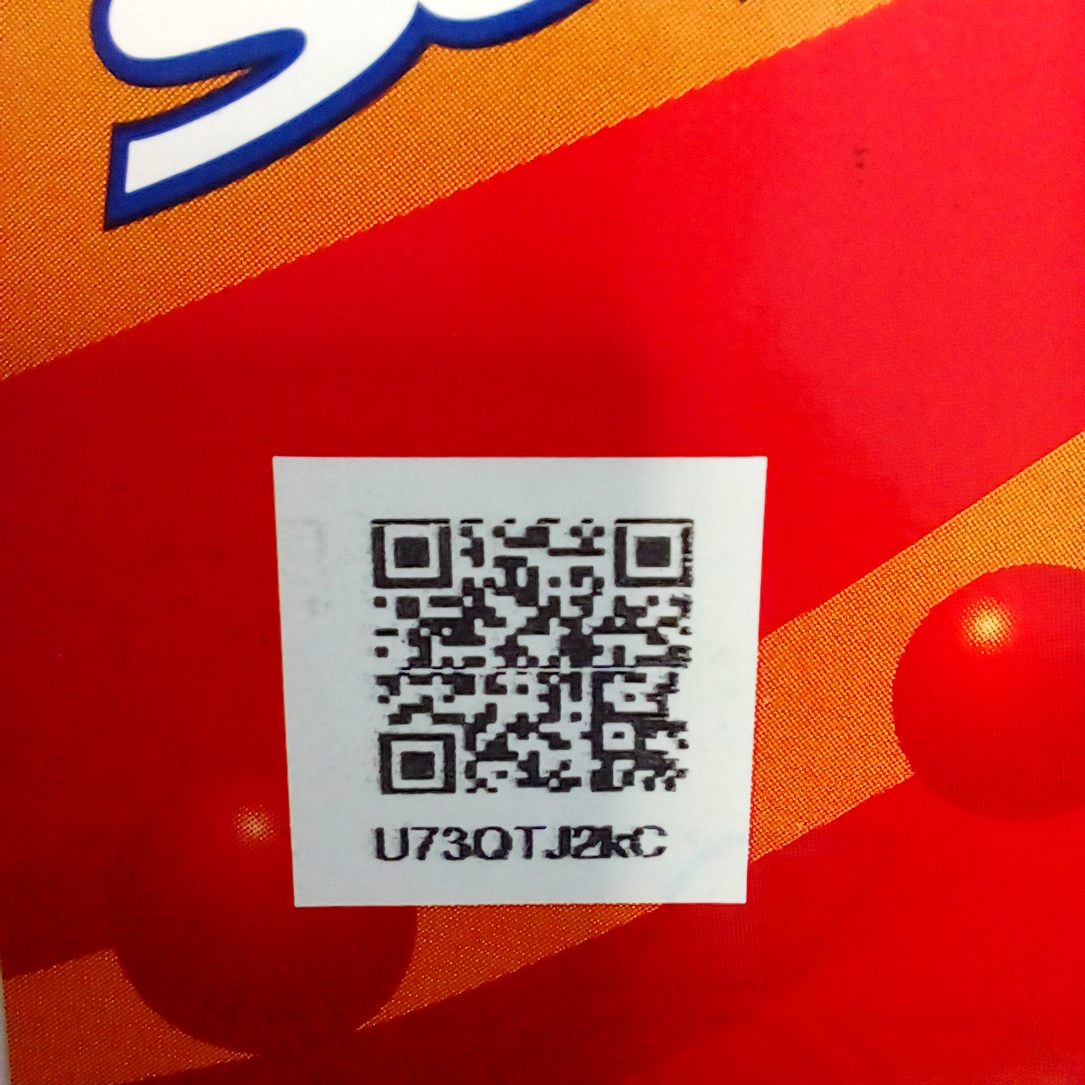QR-CODE: (358, 500, 704, 805)
